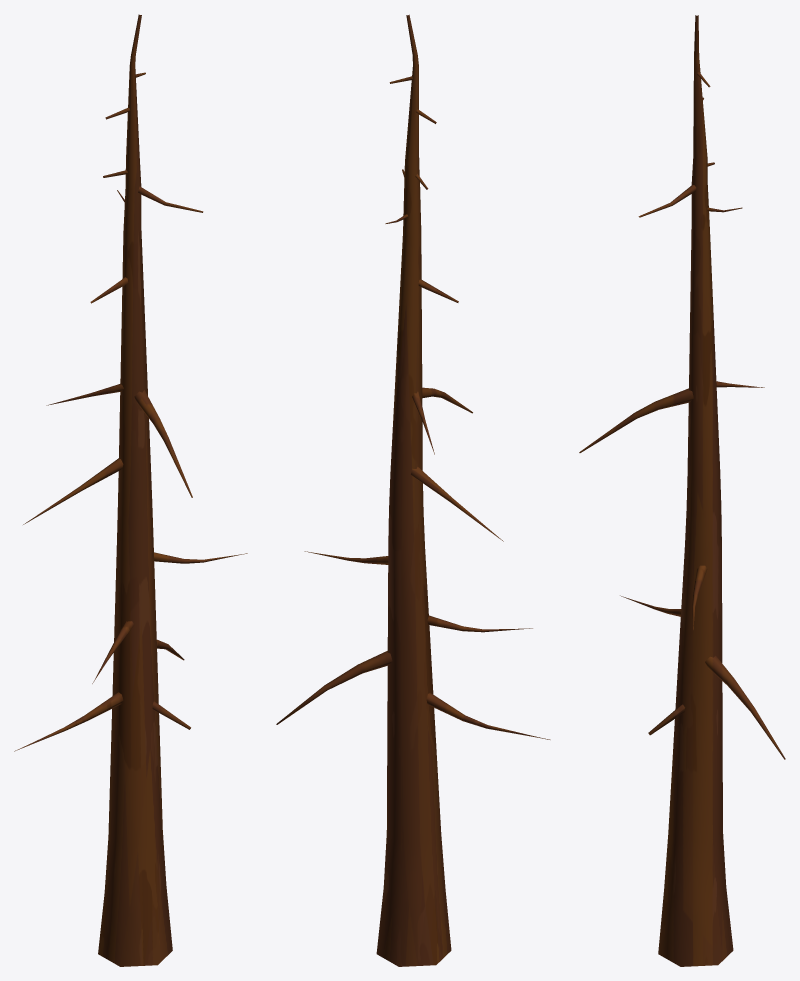
Rendered from STPine5.glb.
The picture shows the model from 3 angles, left to right: view 1: azimuth 30°, elevation 25°; view 2: azimuth 150°, elevation 25°; view 3: azimuth 270°, elevation 25°; orthographic projection.
Visible parts, largest first — view 1: DeadPine1; view 2: DeadPine1; view 3: DeadPine1.
Boxes of the visible parts, bbox=[...] form: DeadPine1: bbox=[14, 14, 247, 966]; DeadPine1: bbox=[276, 14, 550, 966]; DeadPine1: bbox=[579, 15, 785, 966].
Bounding box in the file's own units: 3.39 × 12.62 × 2.51.
Materials: 1 (1 with a texture image).
